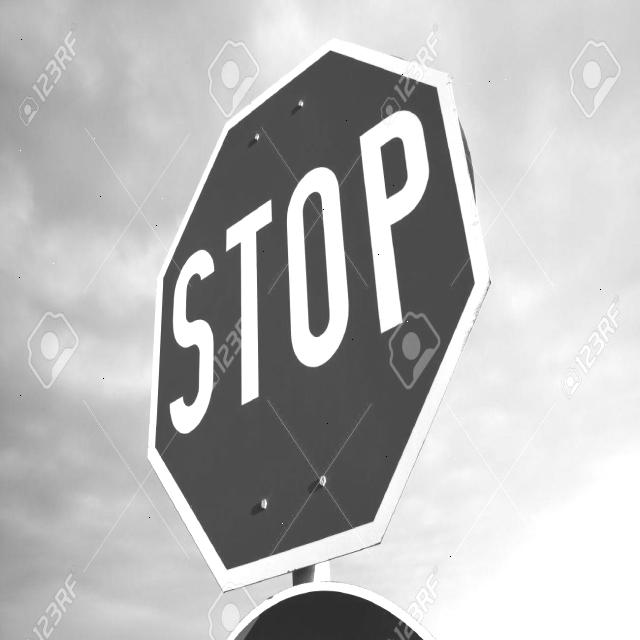Stop-sign: (132, 36, 494, 605)
